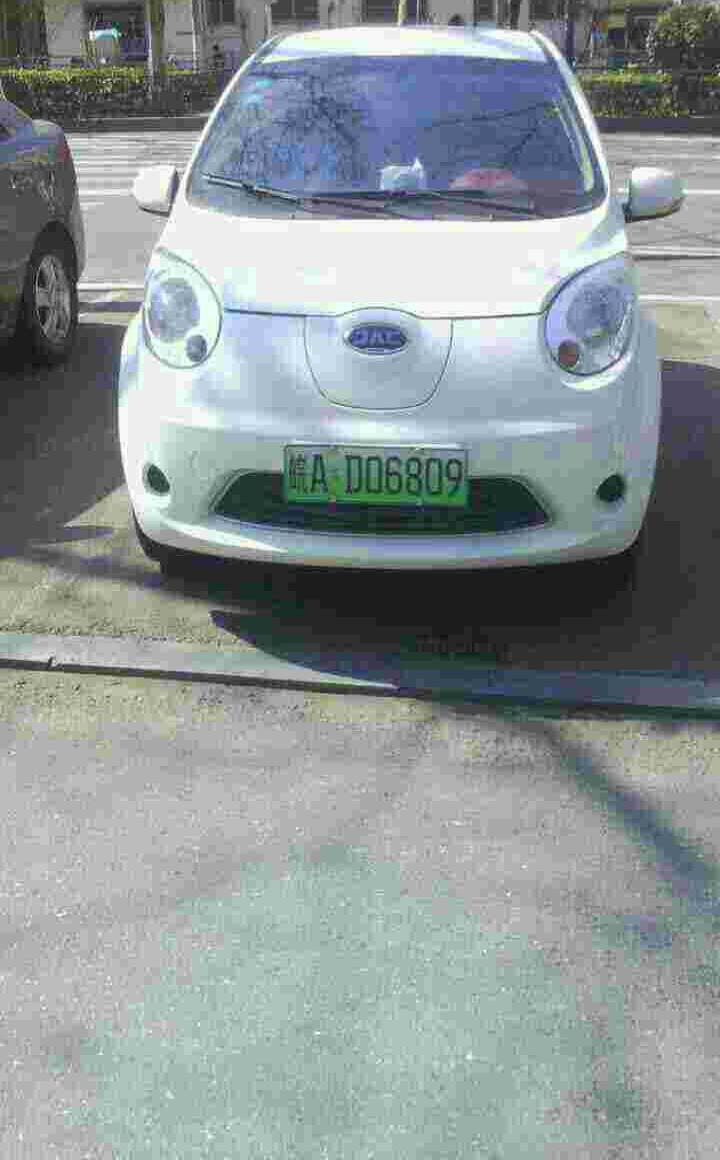car_green: (278, 447, 475, 514)
